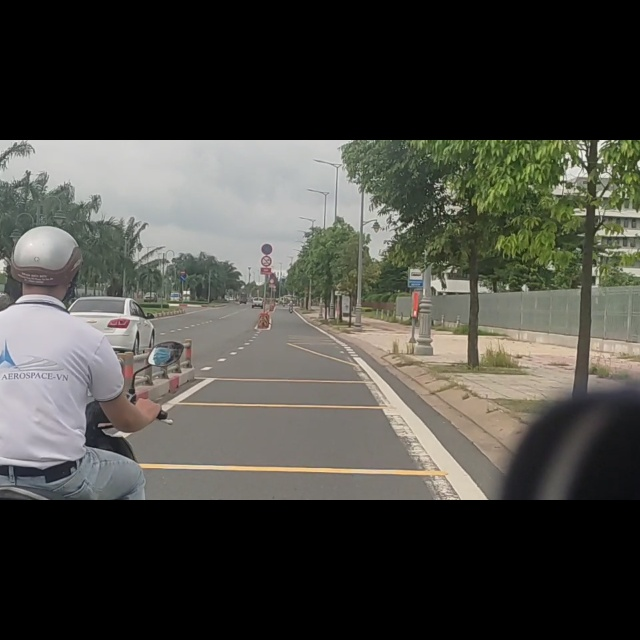bien_hieu_lenh: (409, 230, 425, 265), (259, 183, 273, 204), (259, 205, 273, 225)
